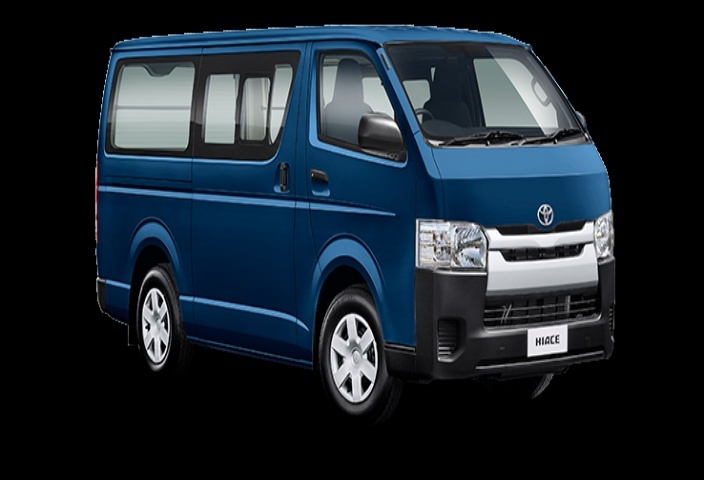van: (61, 8, 619, 410)
